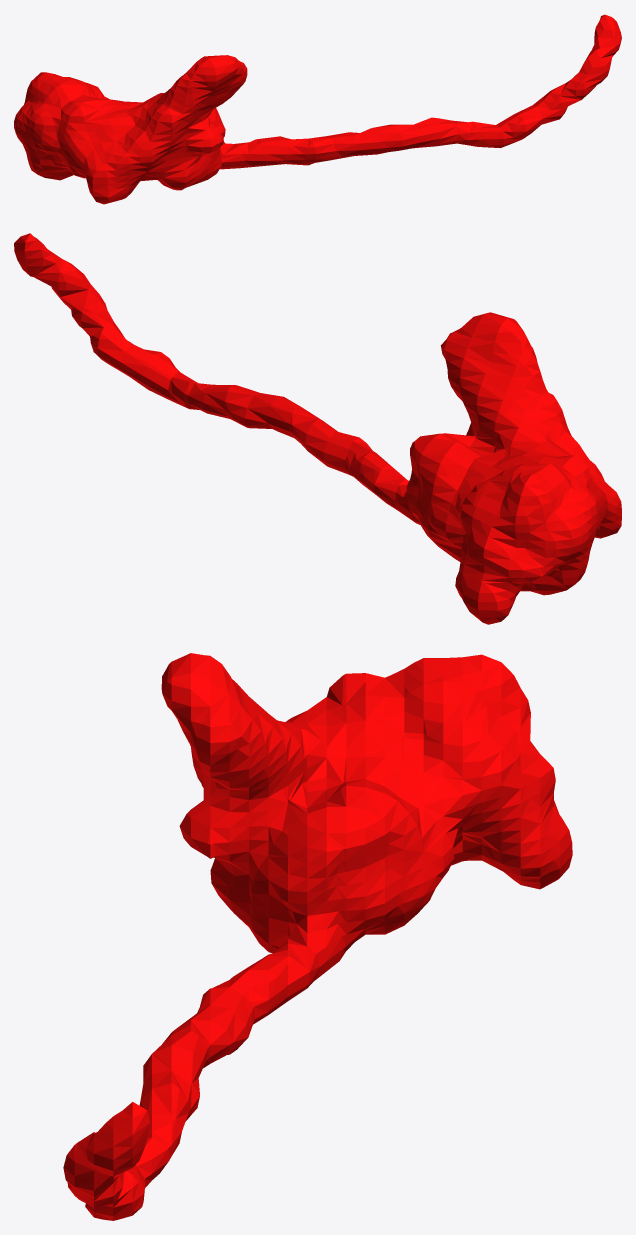
File: cusS_coarse.dae
The picture shows the model from 3 angles, top to bottom: view 1: azimuth 30°, elevation 25°; view 2: azimuth 150°, elevation 25°; view 3: azimuth 270°, elevation 25°; orthographic projection. The views are drawn at different scales.
Parts seen in each view (by area): view 1: cusS; view 2: cusS; view 3: cusS.
Boxes of the visible parts, x1,y1,x2,y2 form: cusS: (14, 14, 621, 204); cusS: (14, 233, 621, 624); cusS: (63, 653, 572, 1220).
Size of the model in its own units: 218 by 61.8 by 92.83.
